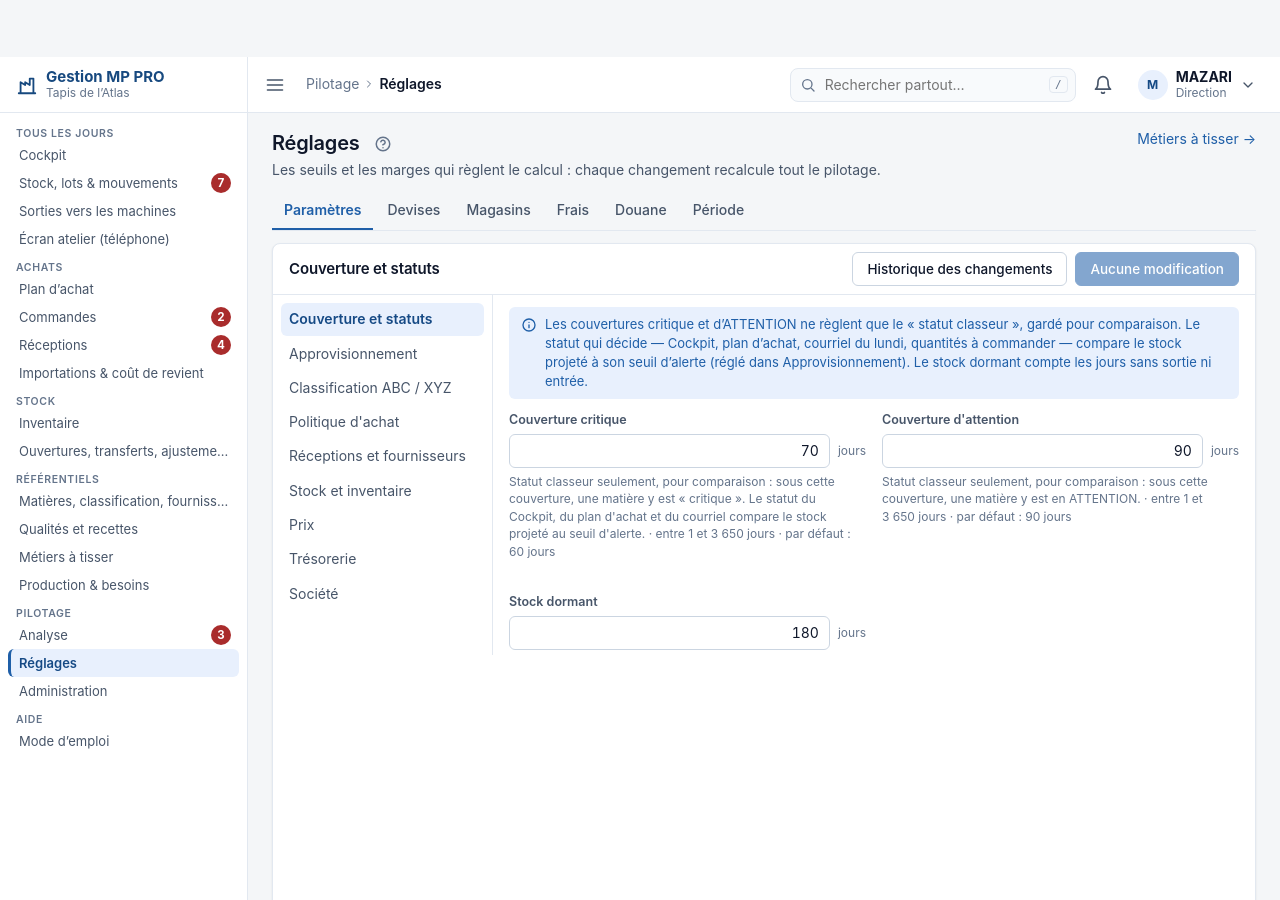
Test case: Réglages › un ordre de seuils se refuse à la frappe, avec la phrase du serveur
This screenshot has width=1280, height=900.
(page scrolled)
Expected: the navigation bar named "Familles de réglages" is shown, [273,295,493,655]
Clear the field labelled "Couverture critique" at (669, 451), box [509,434,830,468]
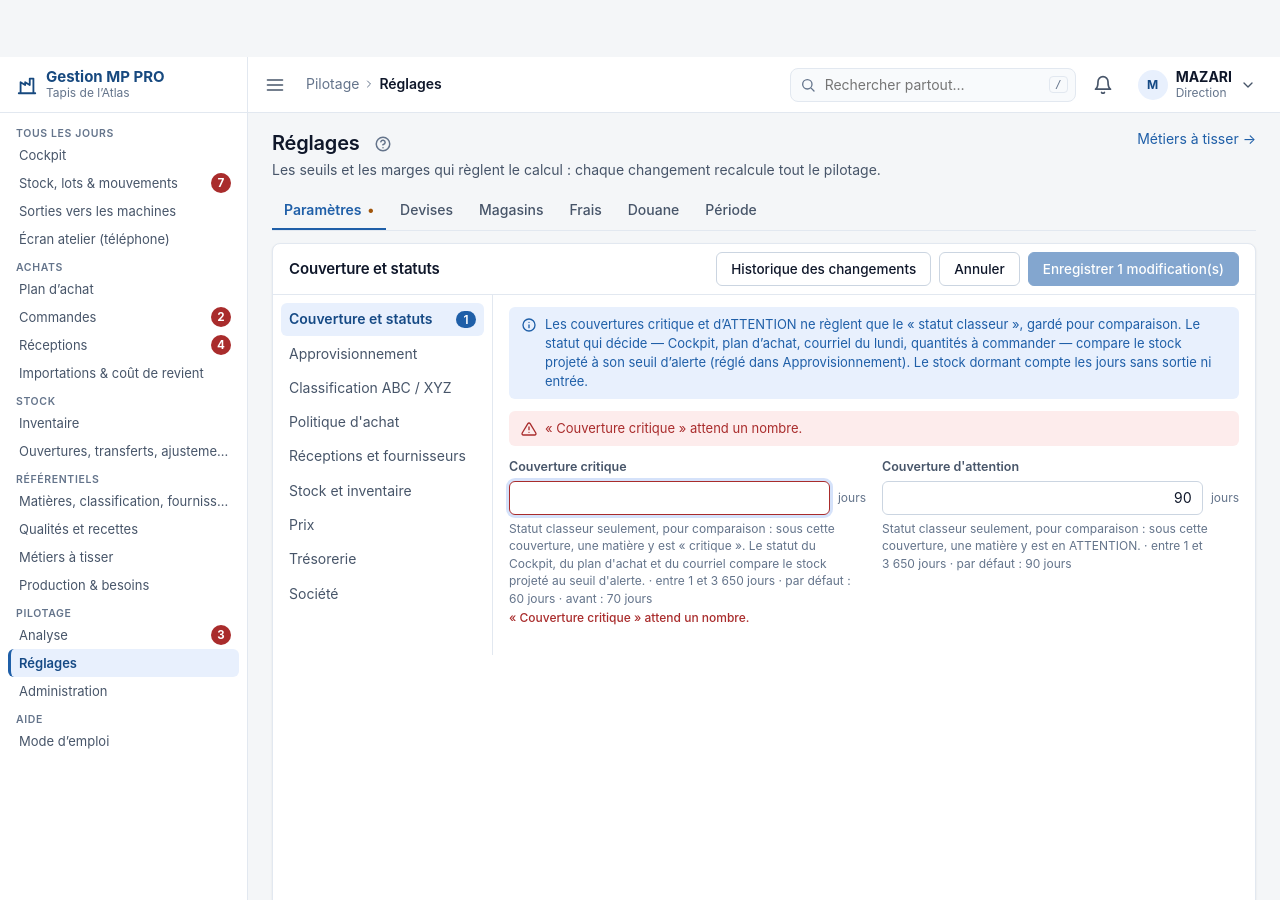
Type "500" into the field labelled "Couverture critique" at (669, 498), box [509,481,830,515]
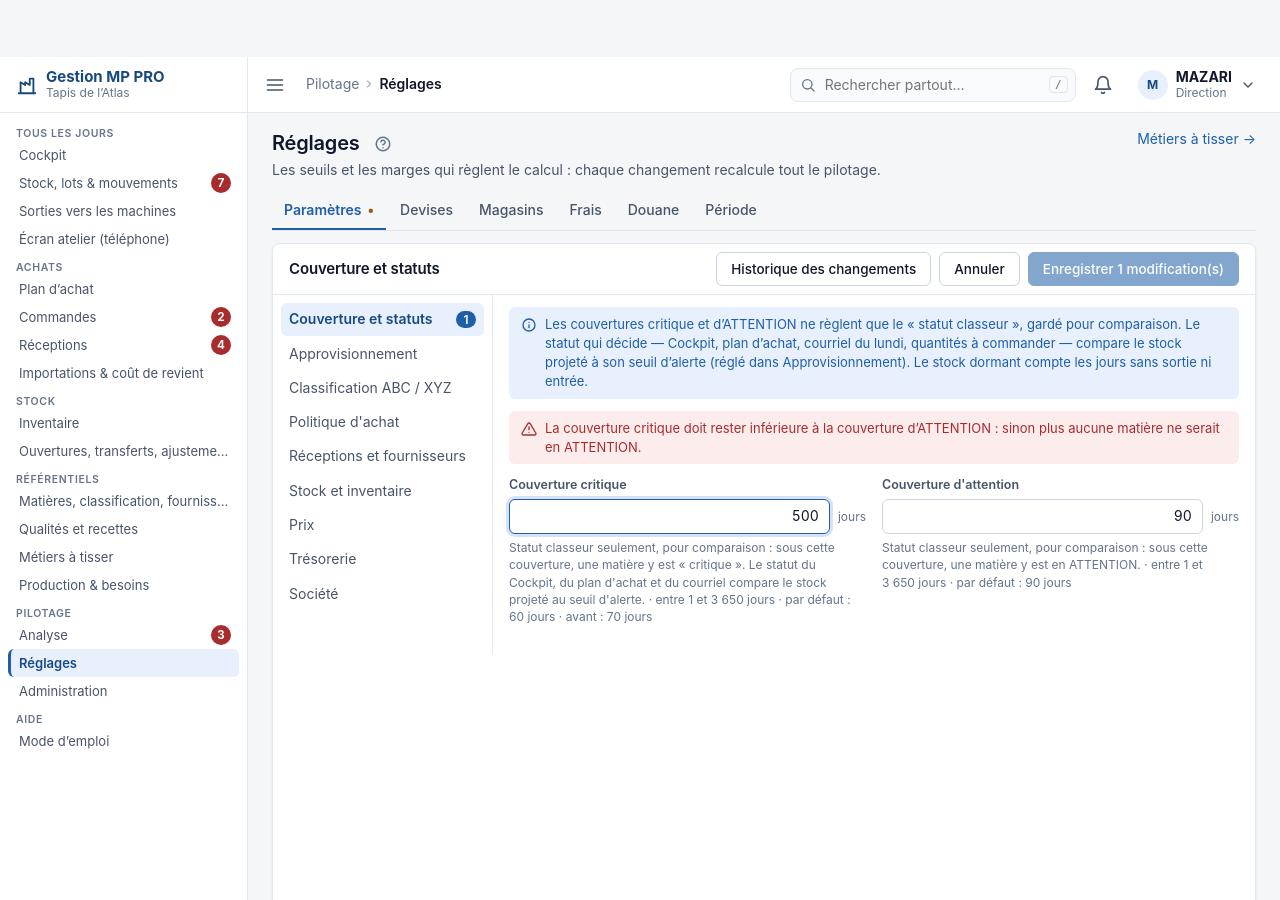
Expected: the button "Enregistrer 1 modification(s)" is disabled, [1028,252,1239,286]
Now the text "La couverture critique doit rester inférieure à la couverture d’ATTENTION : sinon plus aucune matière ne serait en ATTEN" is shown, box [545,420,1220,454]
